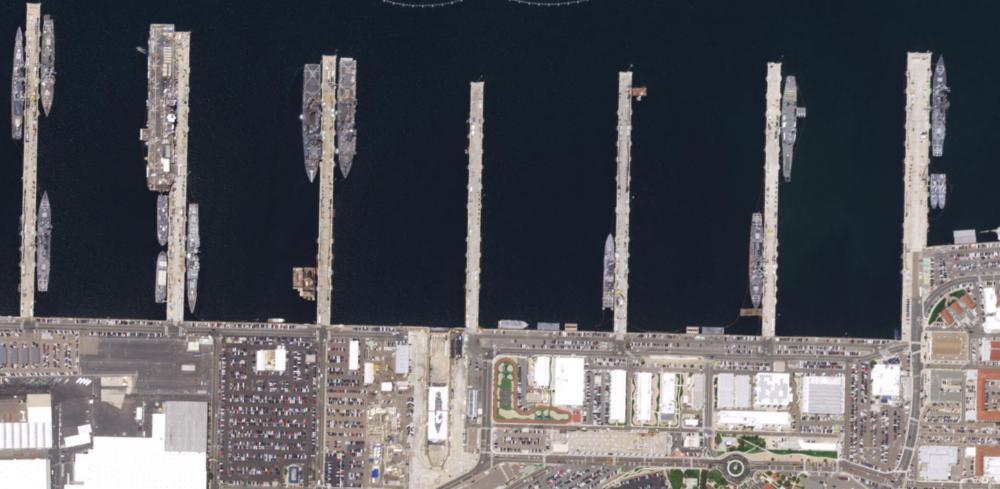amphiby: (337, 52, 362, 182), (302, 60, 323, 186)
destroyer: (8, 26, 26, 141), (187, 202, 201, 316)
fregate: (35, 190, 56, 296), (39, 14, 59, 119), (932, 53, 950, 160), (748, 210, 766, 315)
pha: (144, 19, 179, 194)
